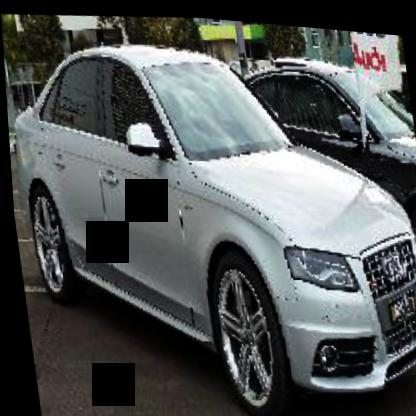not_emergency: (3, 18, 415, 415)
